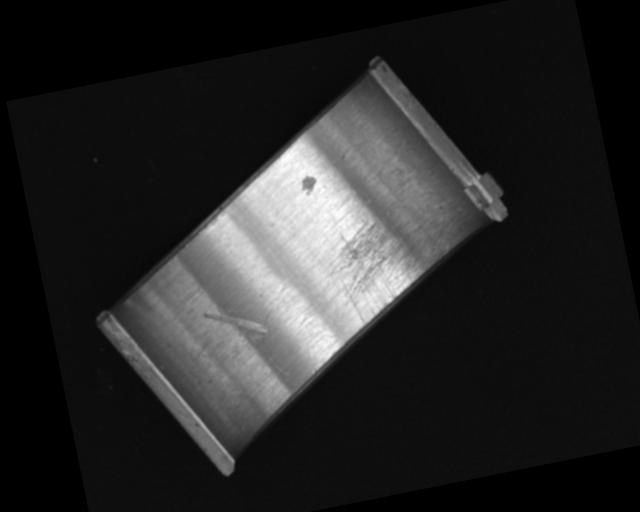bruise: (299, 172, 319, 197)
nick: (202, 300, 269, 351), (255, 301, 293, 382)
scratch: (315, 206, 457, 332)
